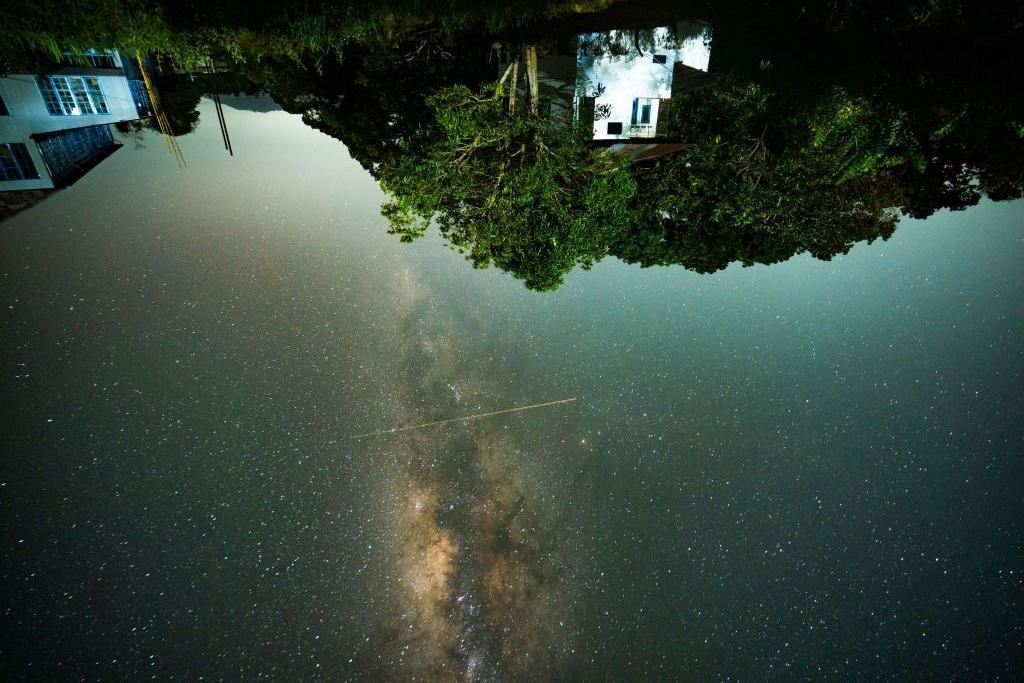meteorite: (450, 393, 587, 429)
